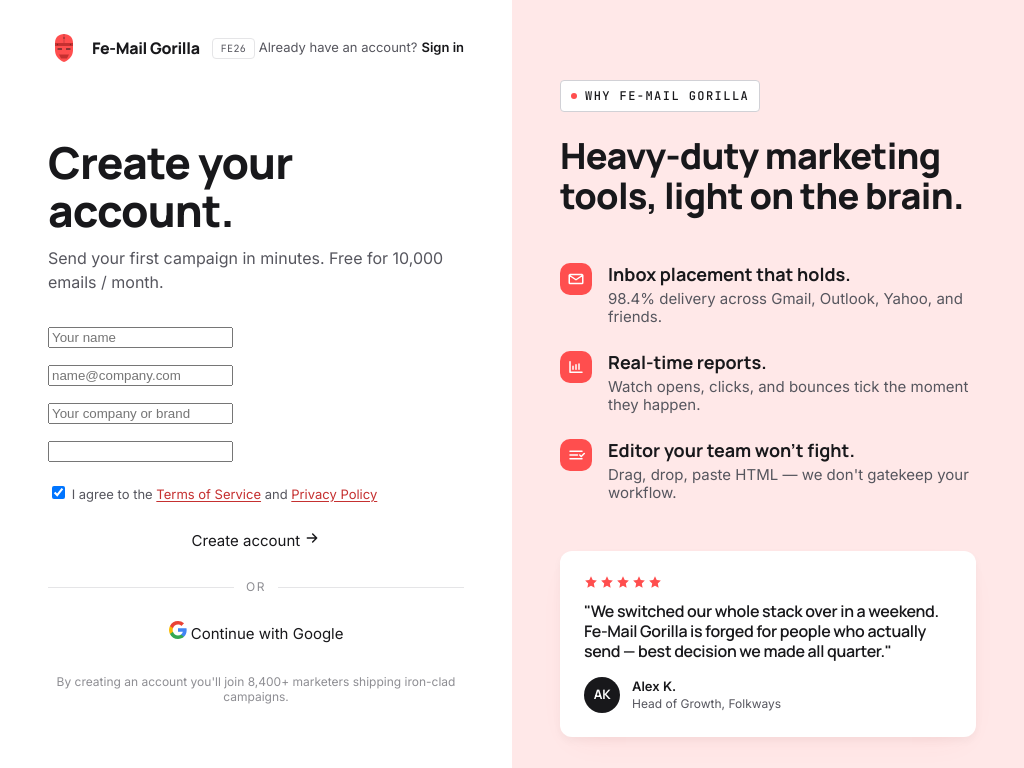
Test: signup.vue › SIGNUP-06: server dup-email error surfaces its message; stays on page
This screenshot has width=1024, height=768.
Step 1. Type "dupe@example.com" into the field with placeholder "name@company.com" → point(140, 376), box top-left (48, 365), bottom-right (233, 386)
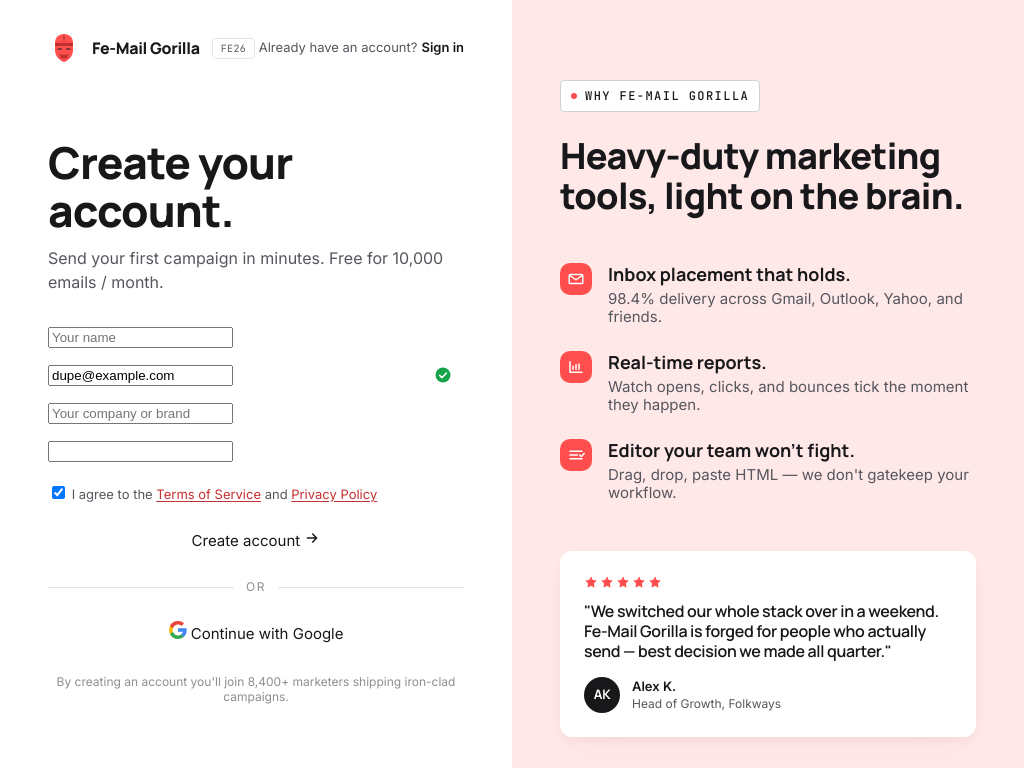
Step 2. Type "longenough1" into the password field → point(140, 452), box top-left (48, 442), bottom-right (233, 462)
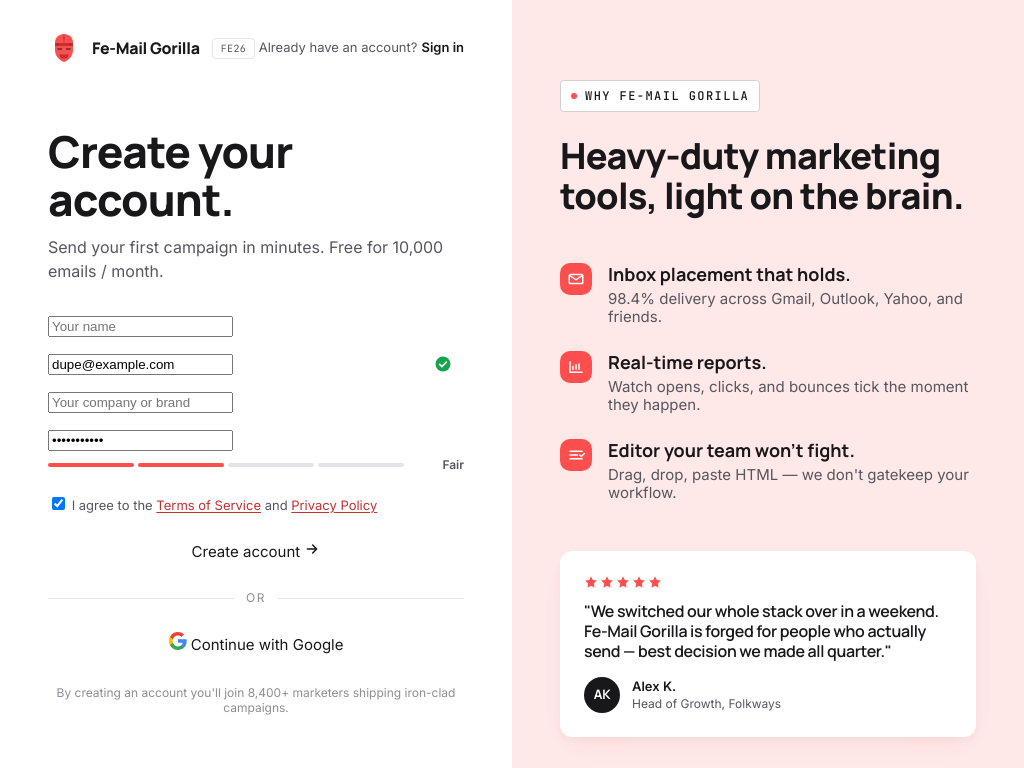
Step 3. Submit the form, box top-left (48, 316), bottom-right (464, 716)
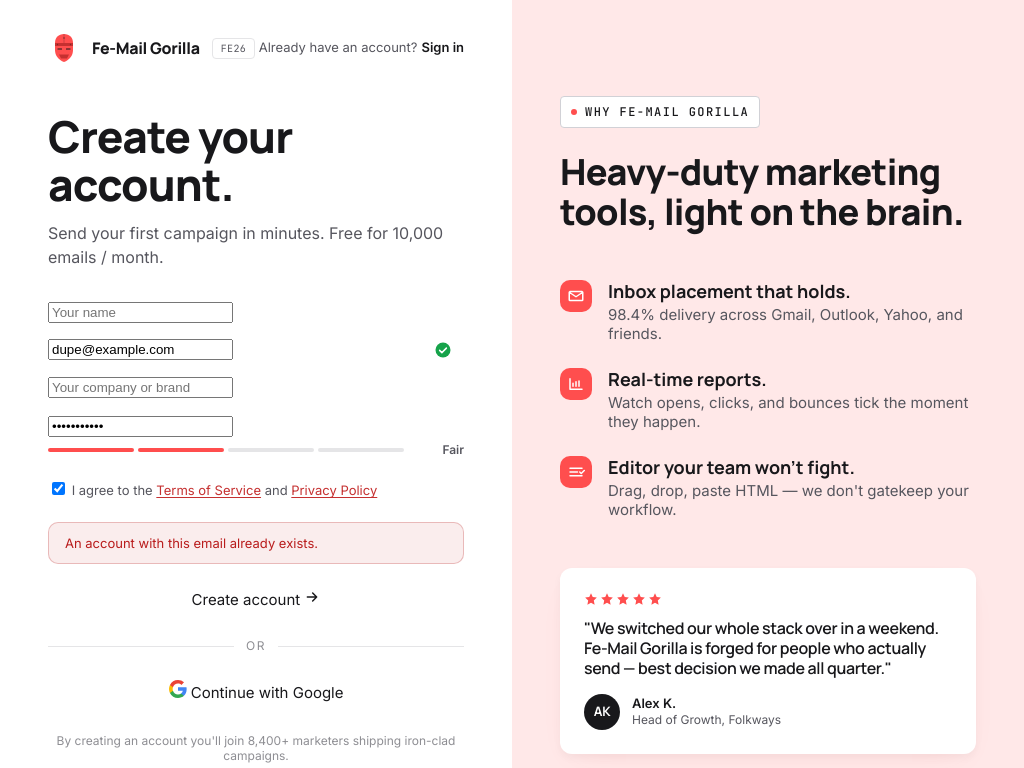
Result: the message with class "form-error" reads "An account with this email already exists." at top-left (65, 535), bottom-right (318, 551)
